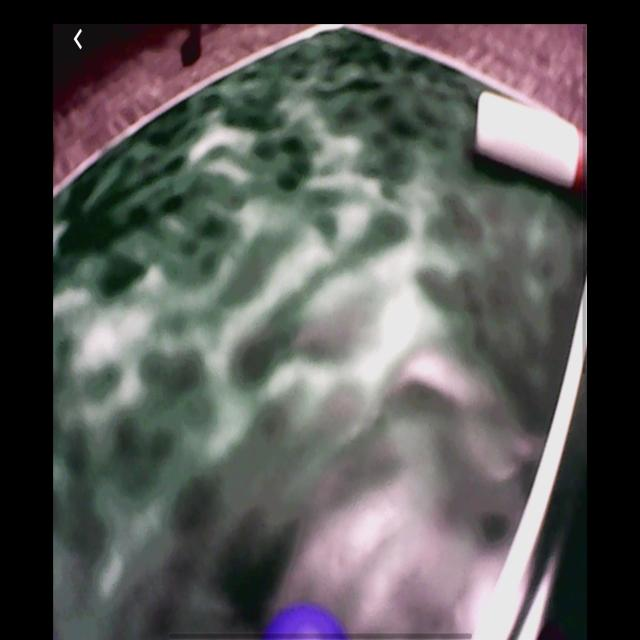ball: (262, 604, 350, 636)
